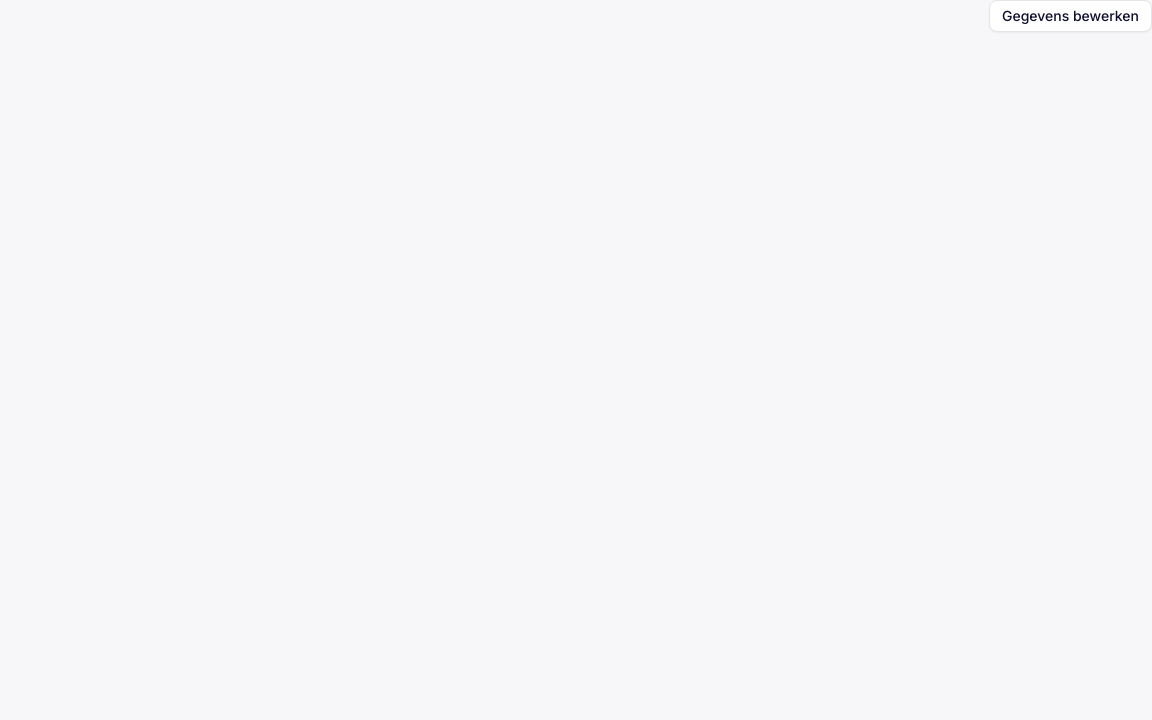
it: EditDetails › speaks nl-NL
Click the button "Gegevens bewerken".
click(1070, 16)  # box [989, 0, 1151, 32]
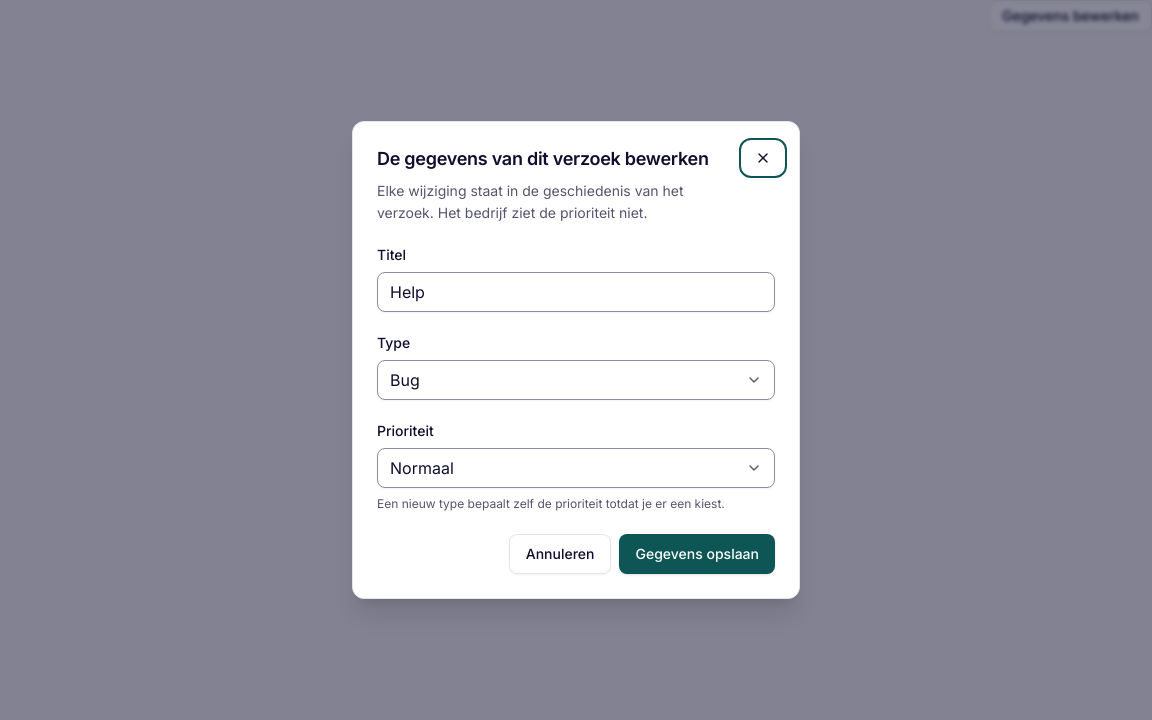
Now the field labelled "Titel" is shown, box [377, 272, 775, 312]
Now the dropdown named "Prioriteit" is shown, box [377, 448, 775, 488]
Now the button "Gegevens opslaan" is shown, box [620, 534, 775, 574]
